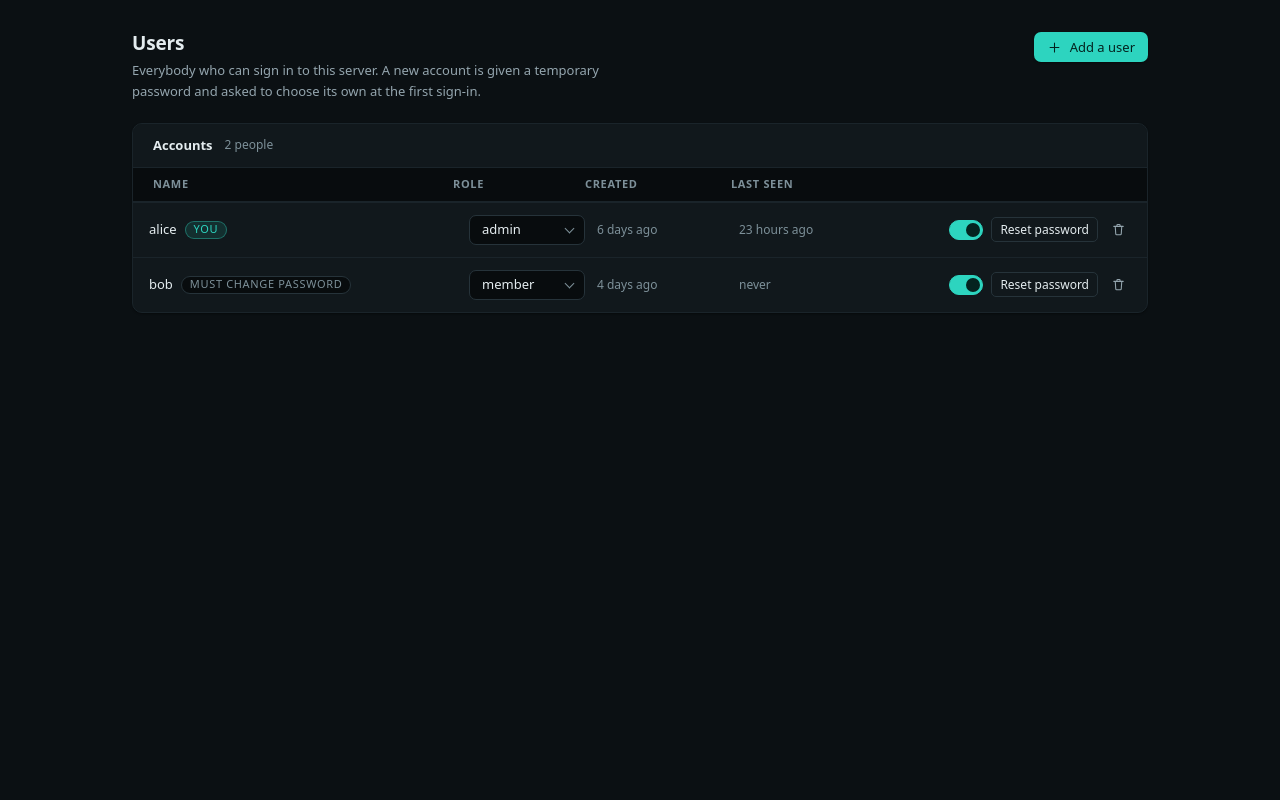
Test case: changing somebody › resets a password to one it shows once
Check: the text "bob" is shown, box top-left (149, 275), bottom-right (173, 294)
Click the button "Reset password" in the row of "never" at (1045, 285), box top-left (991, 272), bottom-right (1098, 297)
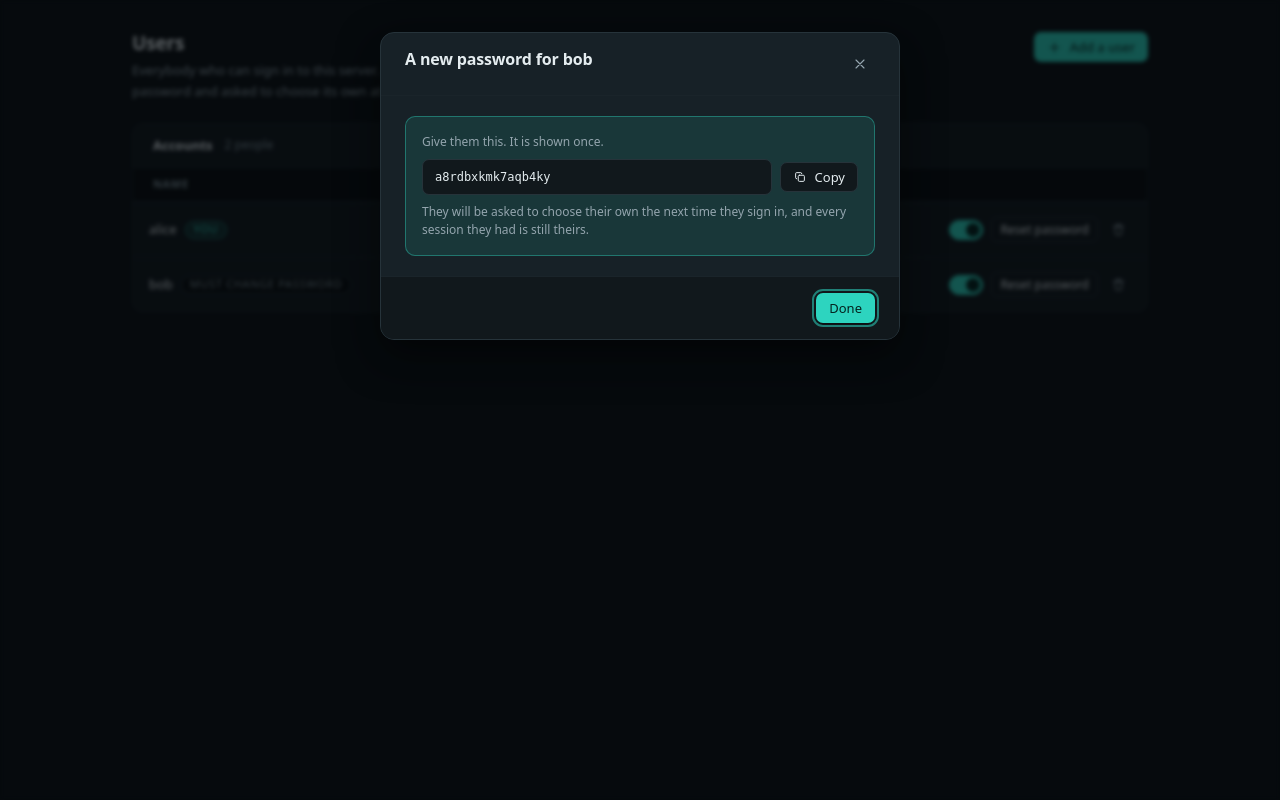
Check: the dialog "A new password for bob" is shown, box top-left (380, 32), bottom-right (900, 340)
